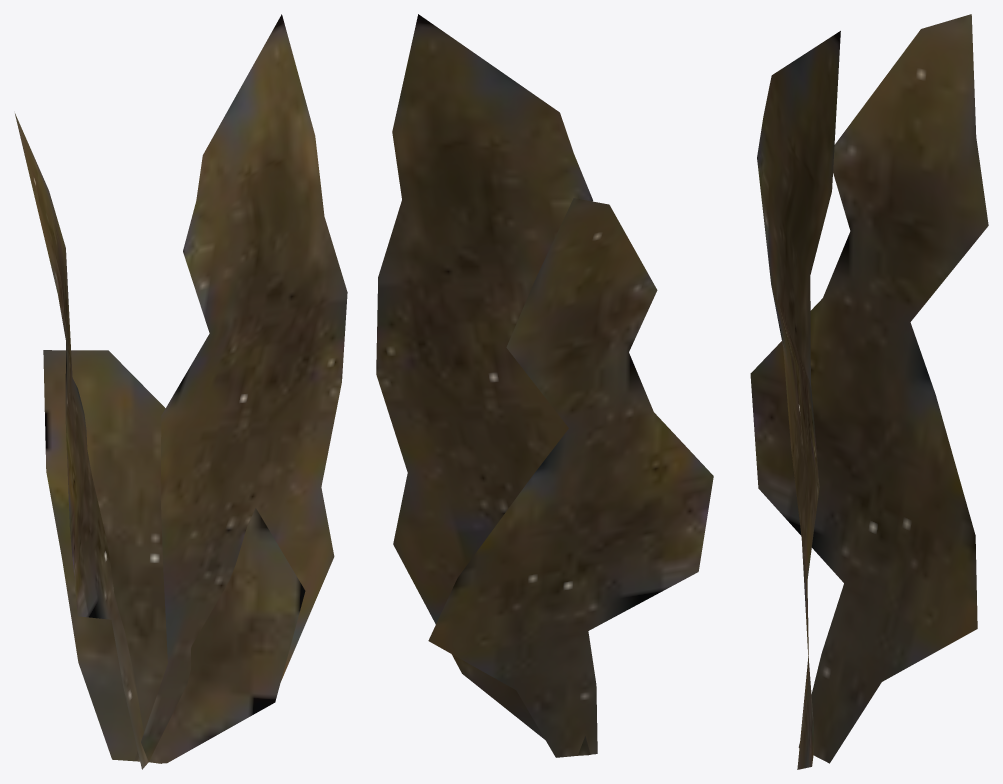
Rendered from MTS_Seaweed_D3-transformed.glb.
The picture shows the model from 3 angles, left to right: view 1: azimuth 30°, elevation 25°; view 2: azimuth 150°, elevation 25°; view 3: azimuth 270°, elevation 25°; orthographic projection. The views are drawn at different scales.
Visible parts, largest first — view 1: MTS_Seaweed_D3; view 2: MTS_Seaweed_D3; view 3: MTS_Seaweed_D3.
Boxes of the visible parts, bbox=[...] form: MTS_Seaweed_D3: bbox=[15, 14, 347, 769]; MTS_Seaweed_D3: bbox=[376, 14, 713, 757]; MTS_Seaweed_D3: bbox=[750, 14, 988, 769].
Size of the model in its own units: 0.3521 by 0.7833 by 0.2158.
Materials: 1 (1 with a texture image).
